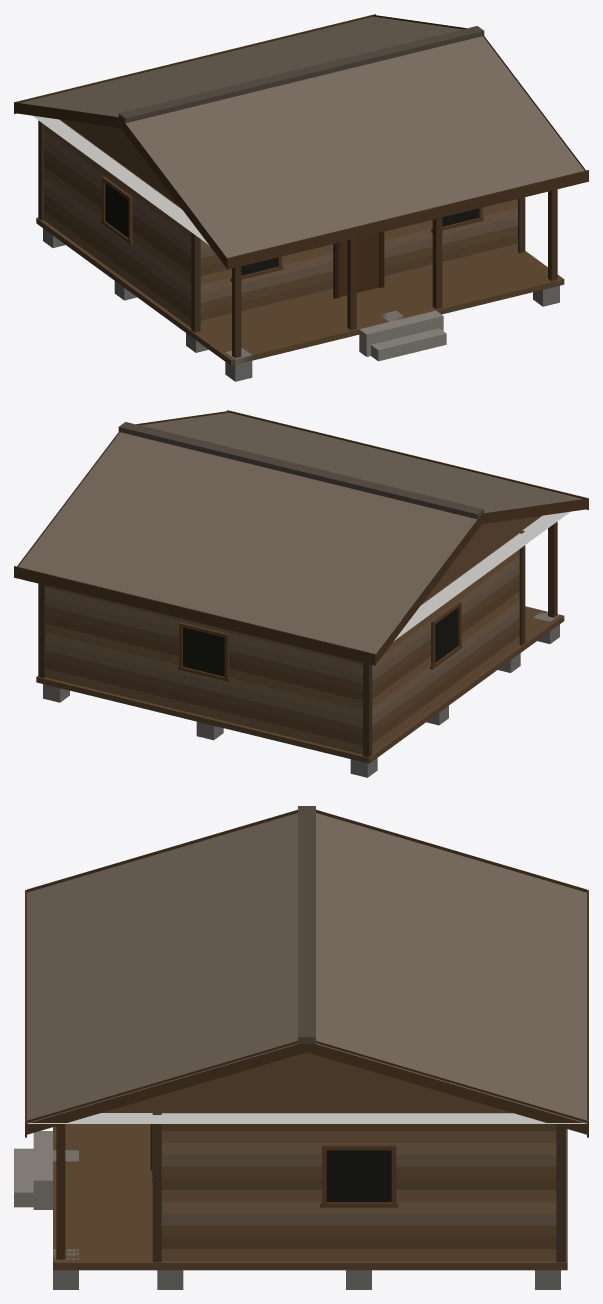
Rendered from ns_wood_lod1.glb.
3 renders of one model, top to bottom at view 1: azimuth 30°, elevation 25°; view 2: azimuth 150°, elevation 25°; view 3: azimuth 270°, elevation 25°, orthographic. The views are drawn at different scales.
Parts seen in each view (by area): view 1: ns_wood_lod1; view 2: ns_wood_lod1; view 3: ns_wood_lod1.
Boxes of the visible parts, box(x1,y1,x2,y2) form: ns_wood_lod1: box(14, 14, 588, 381); ns_wood_lod1: box(14, 410, 588, 777); ns_wood_lod1: box(14, 806, 588, 1289).
Bounding box in the file's own units: 8.46 × 4.47 × 8.83.
